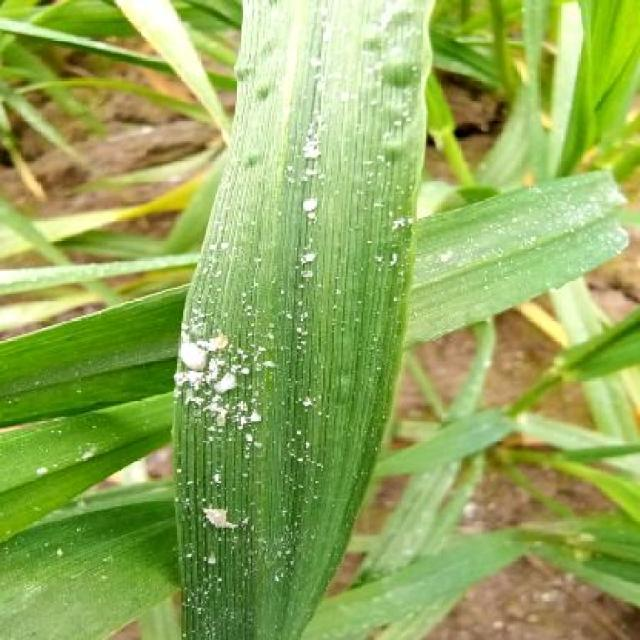Powdery Mildew: (173, 19, 436, 638)
